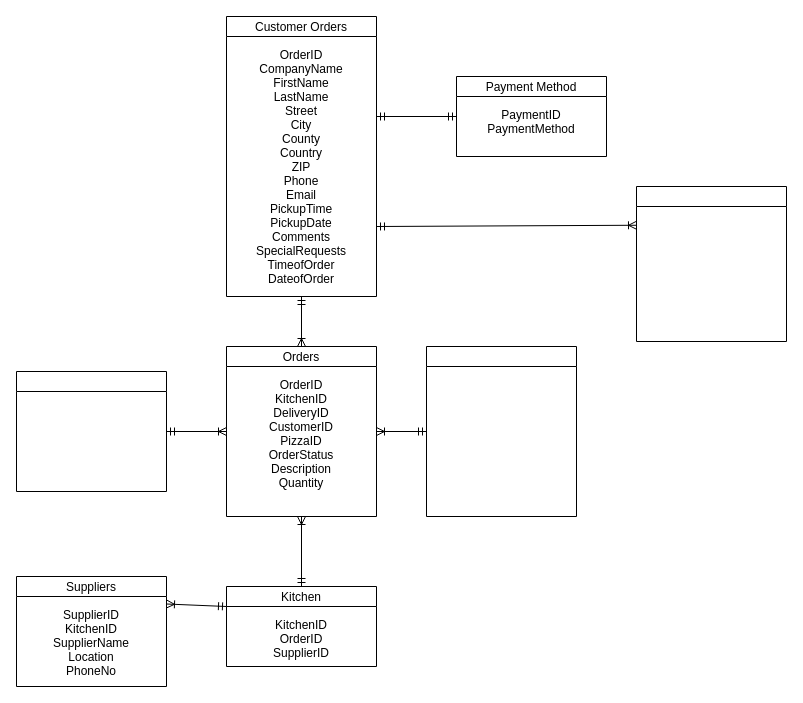
The diagram is 803 pixels wide and 703 high, and some of its shapes have lost their labels. The centre of each missing label's shape, as x and y in pixels:
Delivery DeliveryID FirstName LastName DriversLicense Age Gender Email Phone: the point at 501,431
Menu PizzaID PizzaName Price Description: the point at 91,431
Reservation ReservationID Date Time LastName Phone OrderID Email: the point at 711,264
